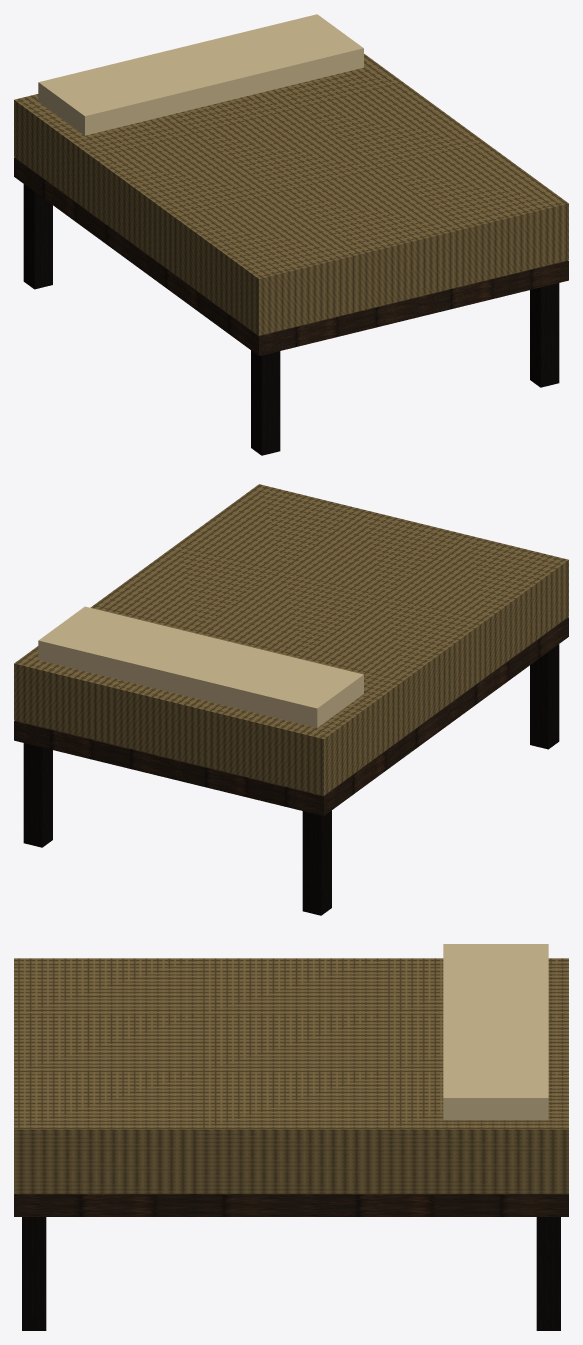
The picture shows the model from 3 angles, top to bottom: view 1: azimuth 30°, elevation 25°; view 2: azimuth 150°, elevation 25°; view 3: azimuth 270°, elevation 25°; orthographic projection. The views are drawn at different scales.
Visible parts, largest first — view 1: fixture-A-bed; view 2: fixture-A-bed; view 3: fixture-A-bed.
Part boxes in pixels (x1=…): fixture-A-bed: x1=14, y1=14, x2=568, y2=455; fixture-A-bed: x1=14, y1=484, x2=568, y2=915; fixture-A-bed: x1=14, y1=944, x2=568, y2=1330.
Size of the model in its own units: 2 by 1.24 by 2.74.
4 materials, 3 textured.
